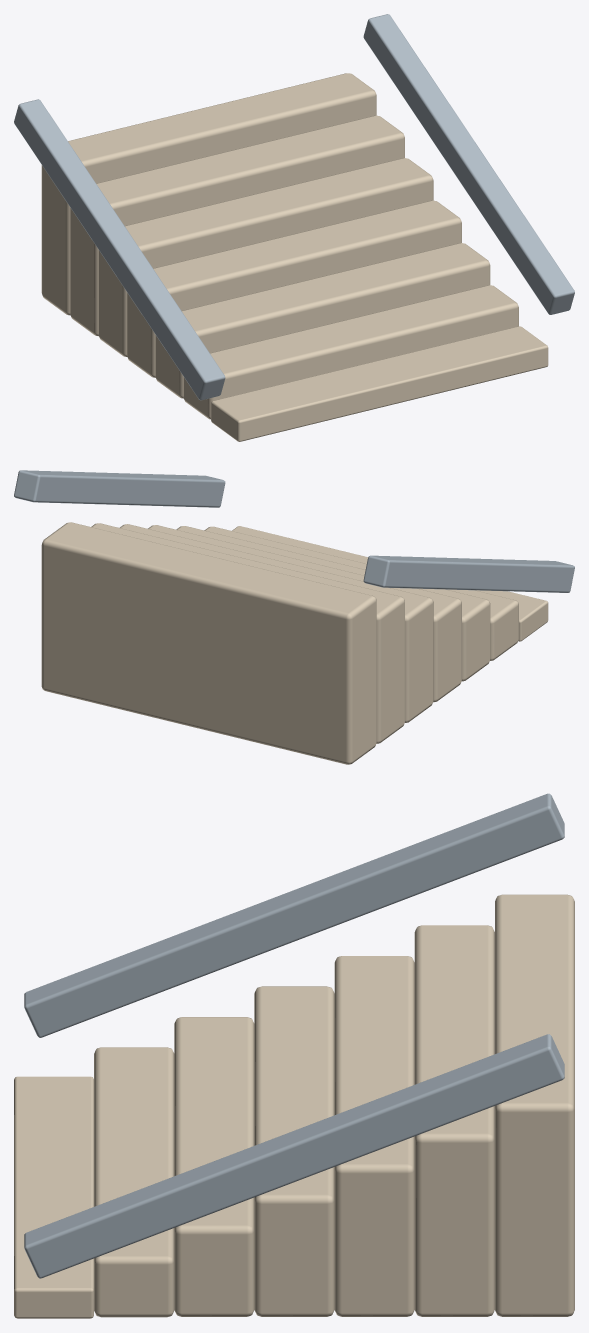
Rendered from stairs_stone.glb.
3 views of the same model, one above another, from view 1: azimuth 30°, elevation 25°; view 2: azimuth 150°, elevation 25°; view 3: azimuth 270°, elevation 25° (orthographic). The views are drawn at different scales.
Parts seen in each view (by area): view 1: stairs_stone; view 2: stairs_stone; view 3: stairs_stone.
Boxes of the visible parts, box(x1,y1,x2,y2) form: stairs_stone: box(14, 14, 574, 441); stairs_stone: box(14, 470, 574, 764); stairs_stone: box(14, 793, 574, 1318).
Size of the model in its own units: 2.87 by 1.53 by 2.66.
